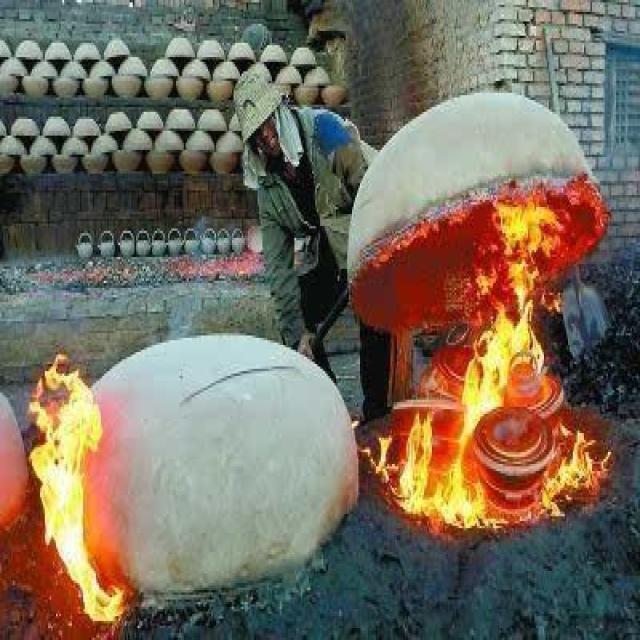fire: (392, 144, 614, 542), (11, 311, 161, 617)
